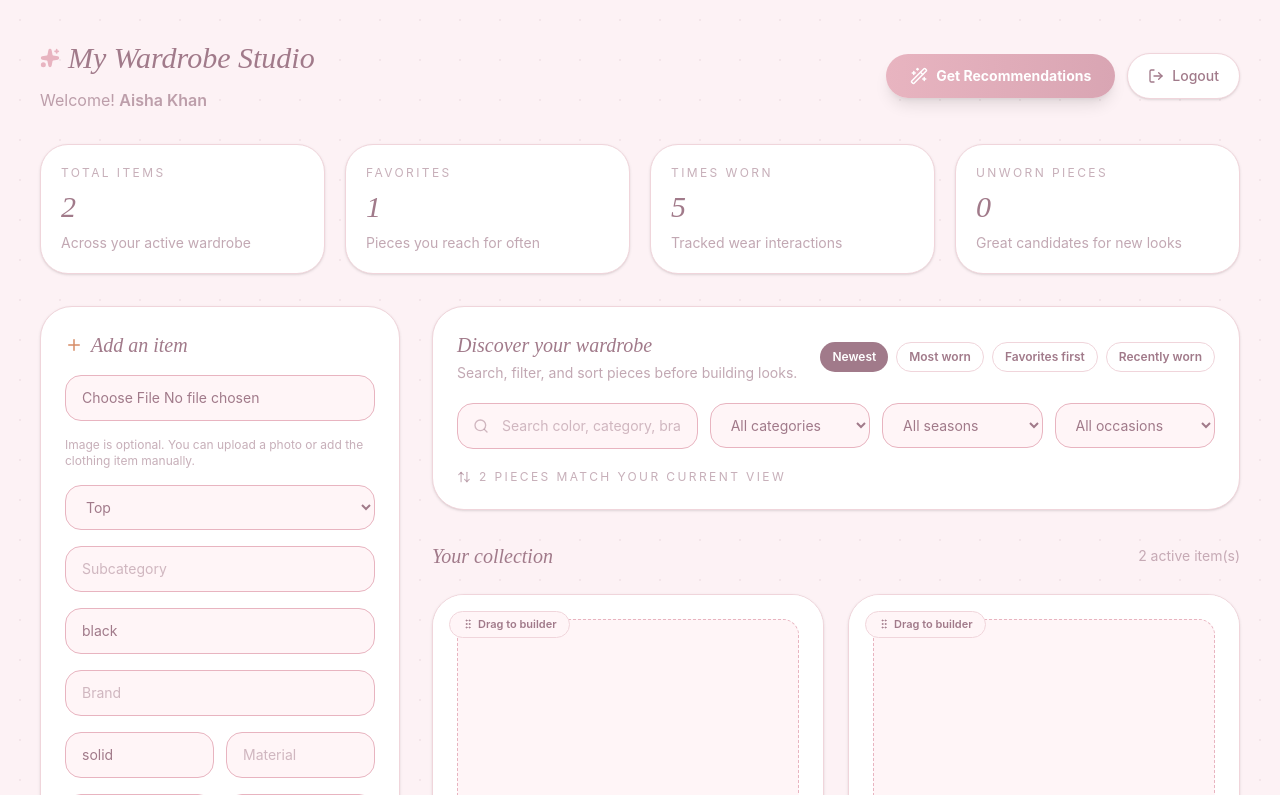
Warbdobe › filters the collection from the search box
The width and height of the screenshot is (1280, 795).
Check: the text "2 active item(s)" is shown, box x1=1138 y1=546 x2=1240 y2=566
In the field with placeholder "Search color, category, brand, season...": (577,426) x1=457 y1=403 x2=698 y2=449, type "loafer"
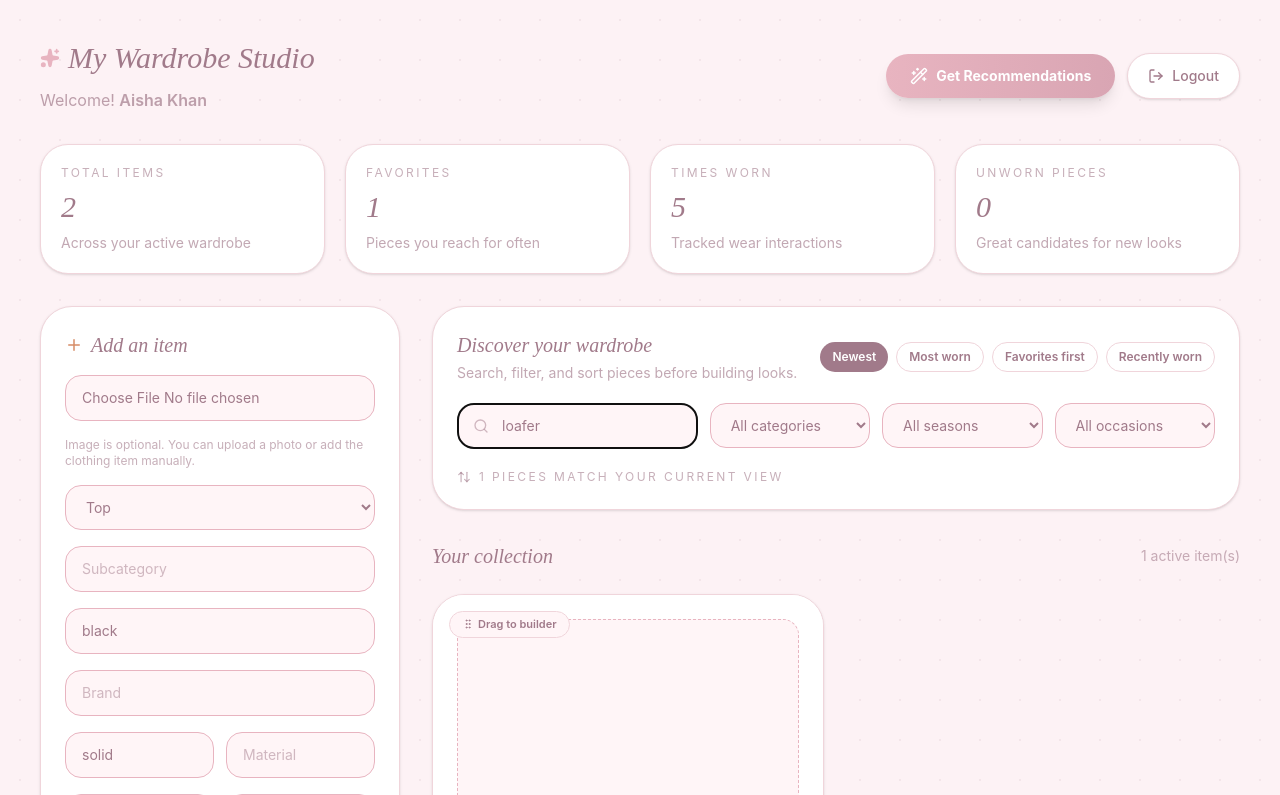
Check: the text "1 active item(s)" is shown, box x1=1141 y1=546 x2=1240 y2=566
